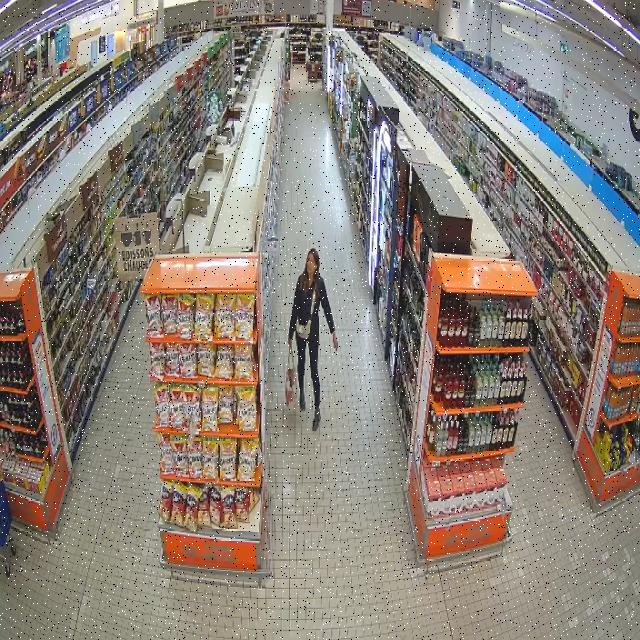bags: (297, 286, 316, 340)
hands: (332, 332, 339, 351), (288, 338, 291, 346)
person: (289, 248, 338, 430)
